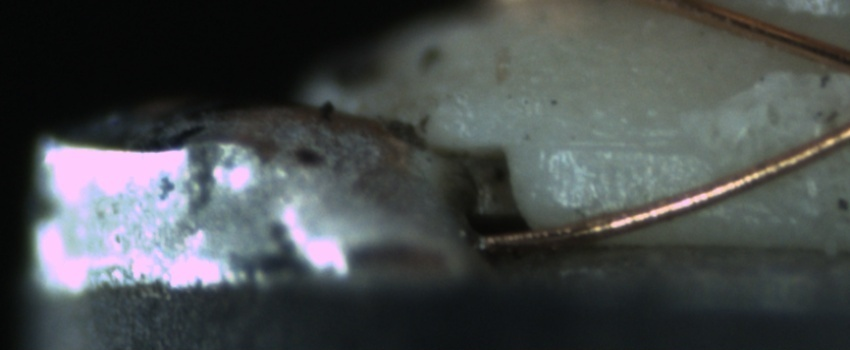DL: (545, 116, 707, 175)
